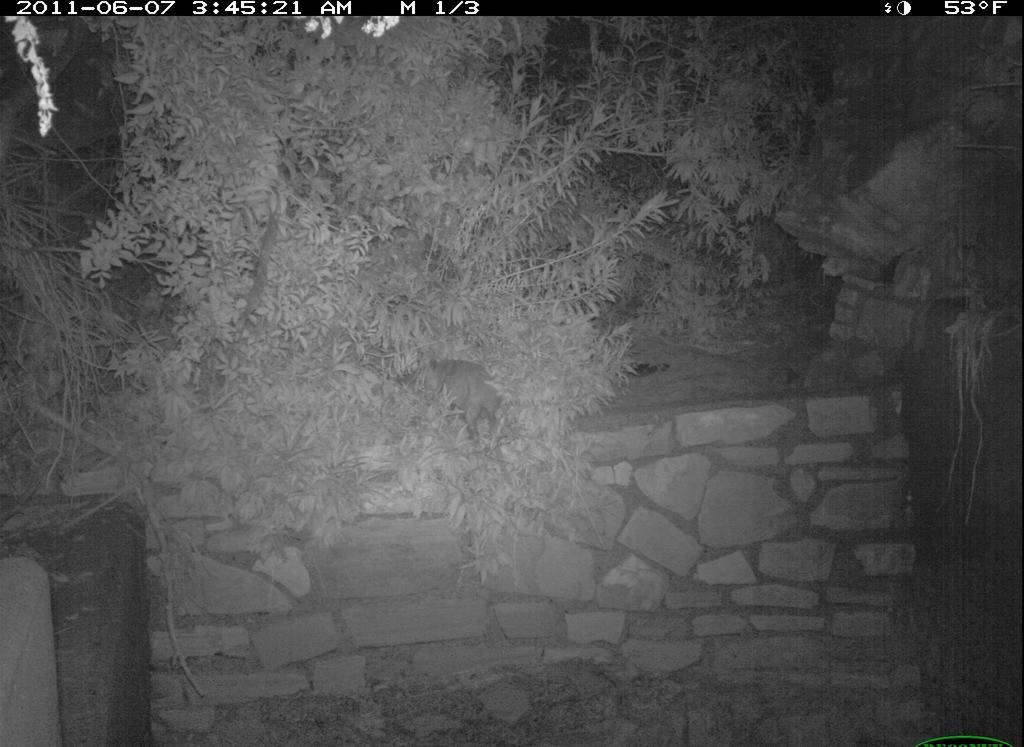opossum: (405, 337, 515, 454)
